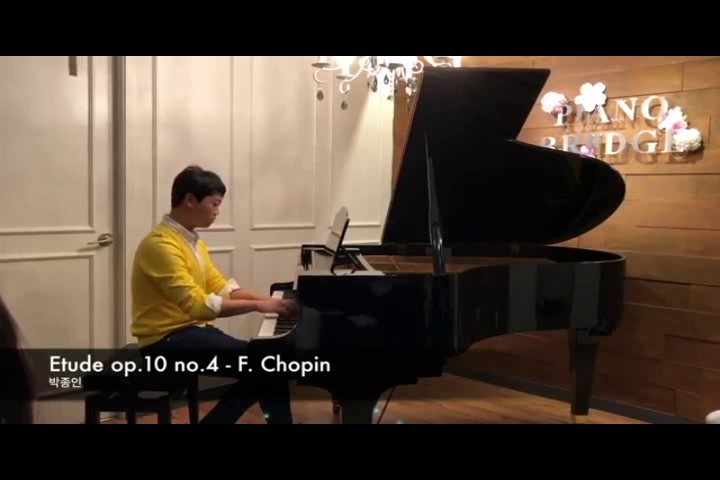keyboard: (255, 284, 302, 343)
